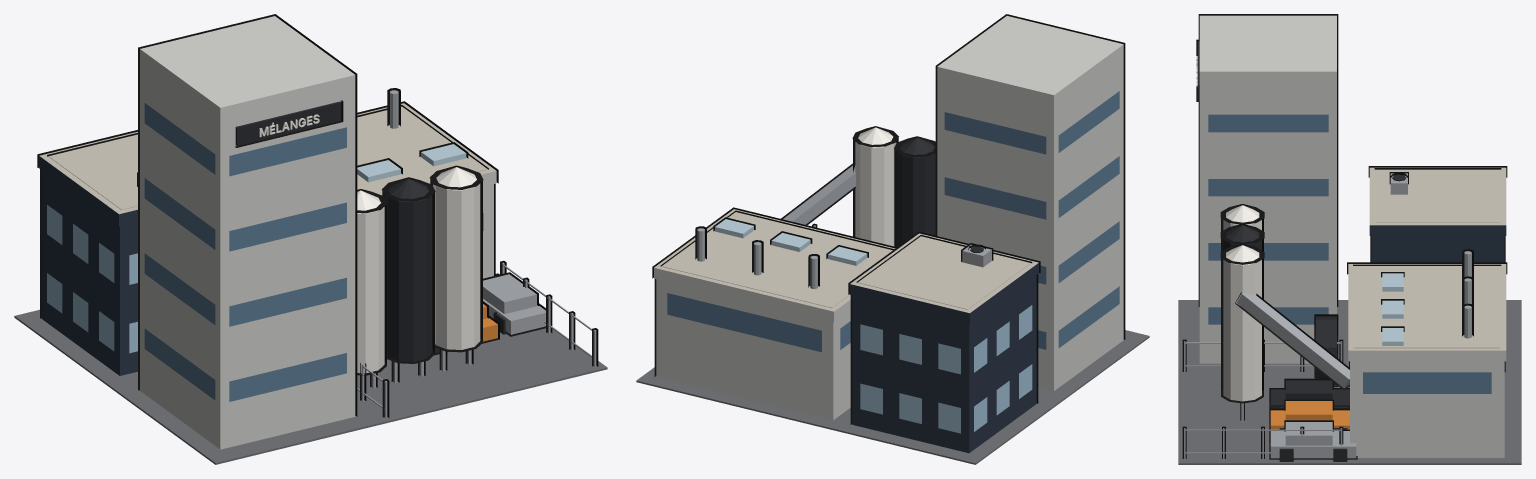
File: Sanayi_fabrika_lastik.fbx
The picture shows the model from 3 angles, left to right: view 1: azimuth 30°, elevation 25°; view 2: azimuth 150°, elevation 25°; view 3: azimuth 270°, elevation 25°; orthographic projection. The views are drawn at different scales.
Parts seen in each view (by area): view 1: Sanayi_fabrika_lastik; view 2: Sanayi_fabrika_lastik; view 3: Sanayi_fabrika_lastik.
Part boxes in pixels (x1,y1,x2,y2): Sanayi_fabrika_lastik: (14,14,607,464); Sanayi_fabrika_lastik: (636,14,1149,464); Sanayi_fabrika_lastik: (1178,14,1521,464).
Bounding box in the file's own units: 18 × 15.16 × 16.
